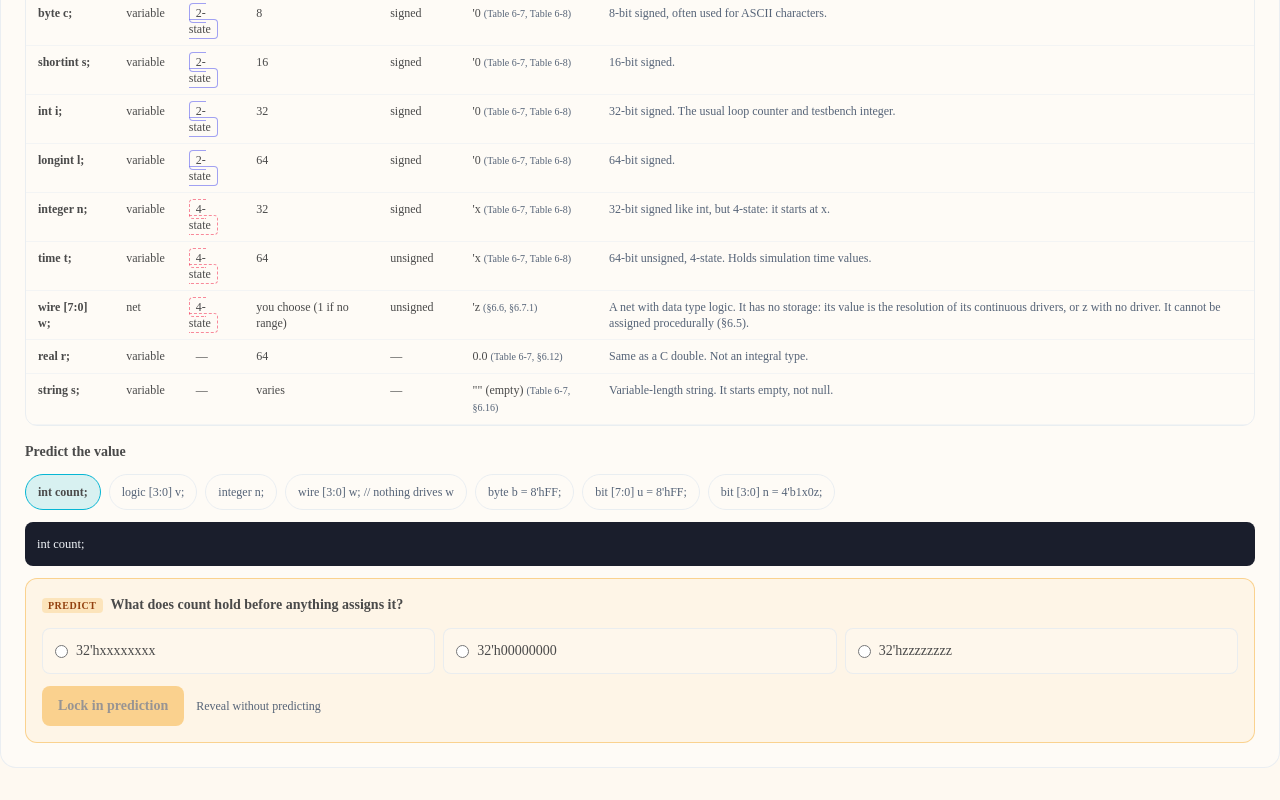
Test: DataTypeComparisonChart › hides the value until a prediction is committed and diagnoses 'int starts at x'
(page scrolled)
Expected: the text "Value:" is not shown
Click the radio button labelled "32'hxxxxxxxx" at (62, 651), box [55,645,68,658]
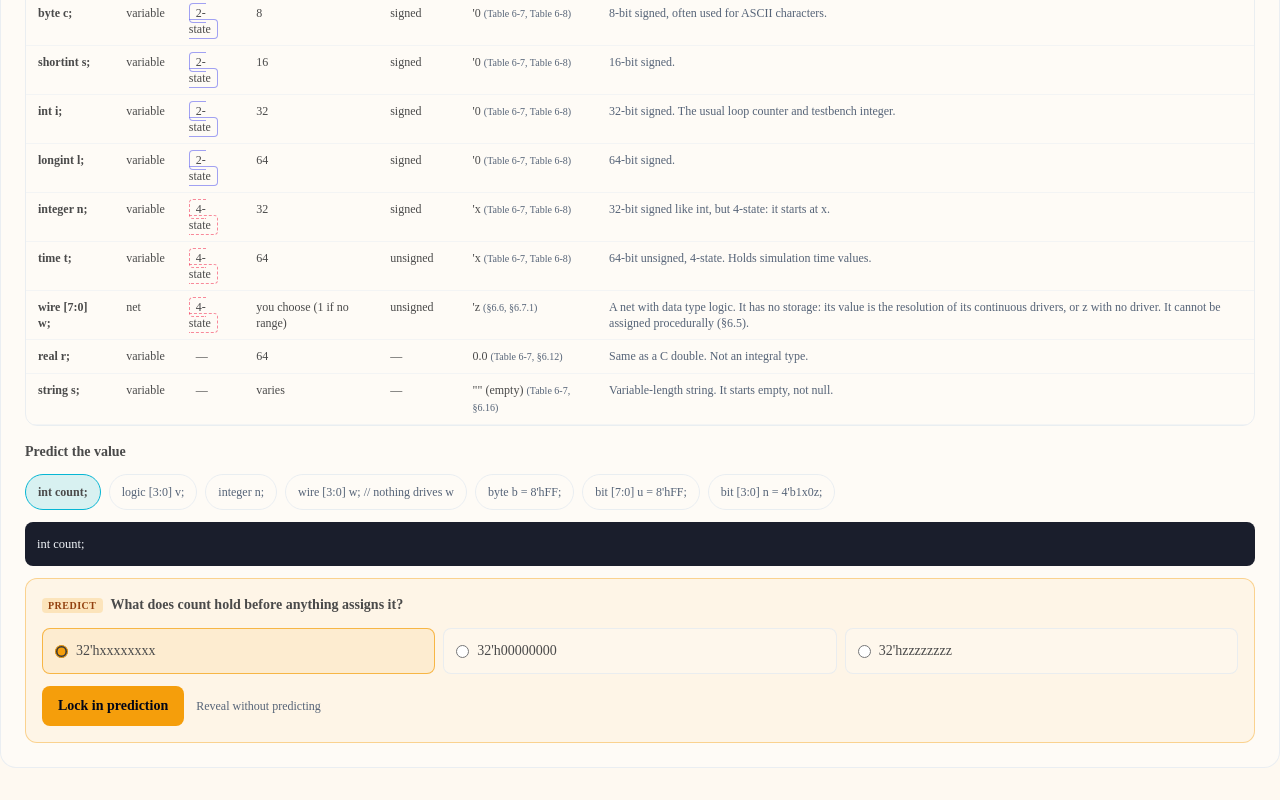
Click the button "Lock in prediction" at (113, 706), box [42,686,184,726]
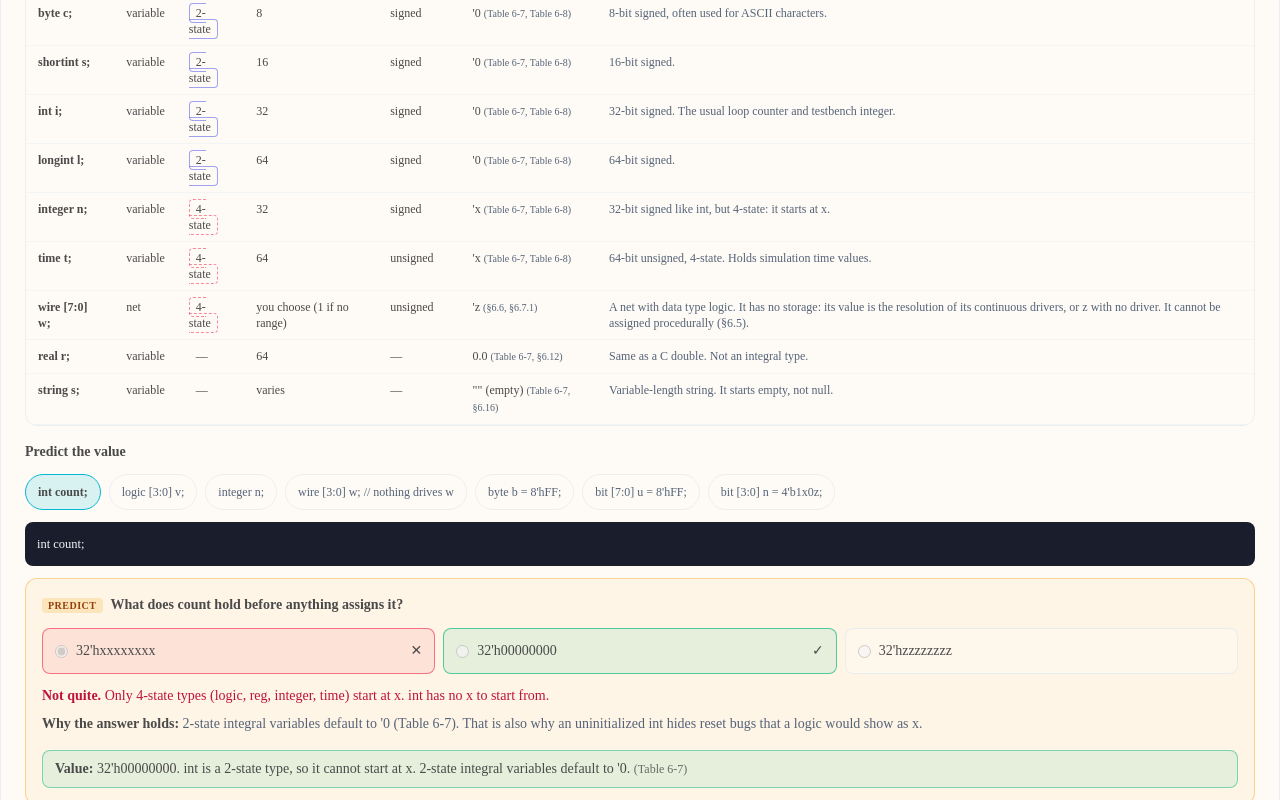
Now the text "Not quite." is shown, box [42,688,105,703]
Now the text "Only 4-state types (logic, reg, integer, time) start at x" is shown, box [105,688,549,703]
Now the text "Value:" is shown, box [55,761,97,776]
